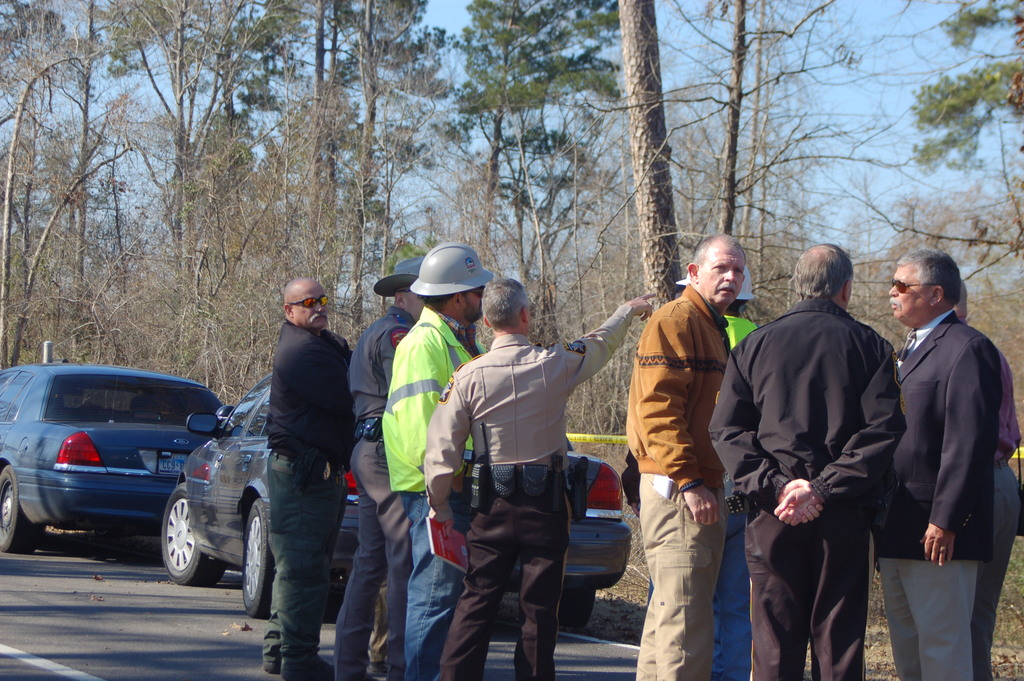Car: (160, 371, 636, 616), (0, 356, 230, 550)
